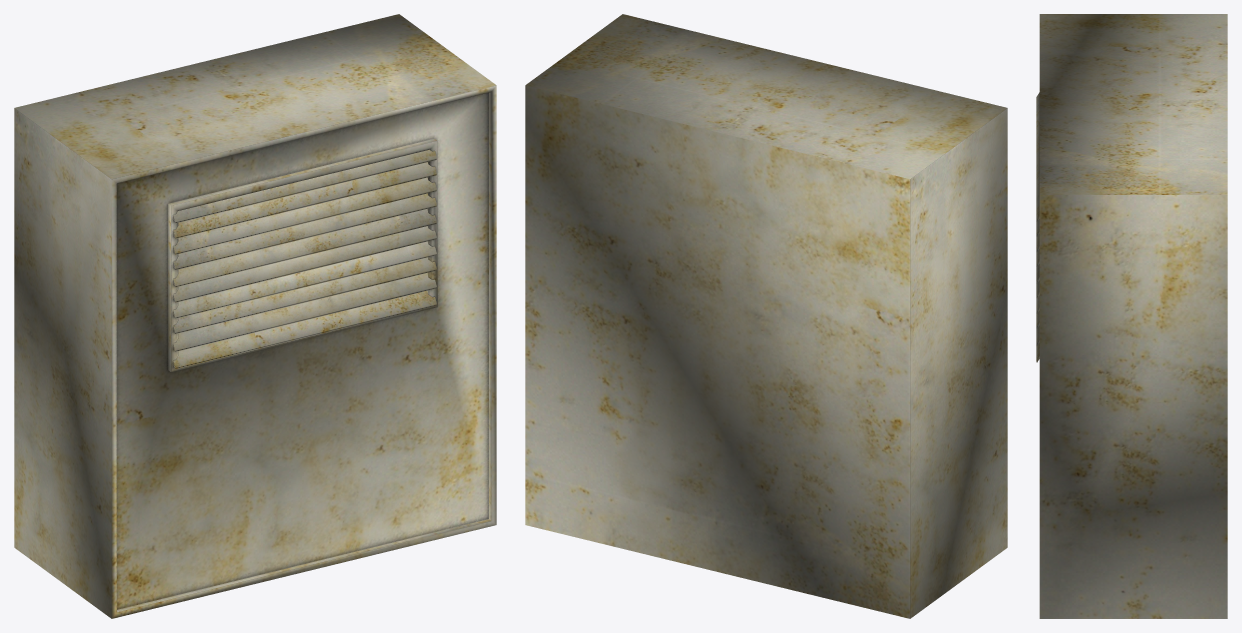
Rendered from energiebox2.obj.
3 views of the same model, side by side, from view 1: azimuth 30°, elevation 25°; view 2: azimuth 150°, elevation 25°; view 3: azimuth 270°, elevation 25° (orthographic). The views are drawn at different scales.
Parts seen in each view (by area): view 1: energiebox2.obj; view 2: energiebox2.obj; view 3: energiebox2.obj.
Boxes of the visible parts, box(x1,y1,x2,y2) form: energiebox2.obj: box(14, 14, 496, 618); energiebox2.obj: box(525, 14, 1007, 618); energiebox2.obj: box(1036, 14, 1227, 618).
Bounding box in the file's own units: 1.19 × 1.3 × 0.5341.
Materials: 1 (1 with a texture image).
